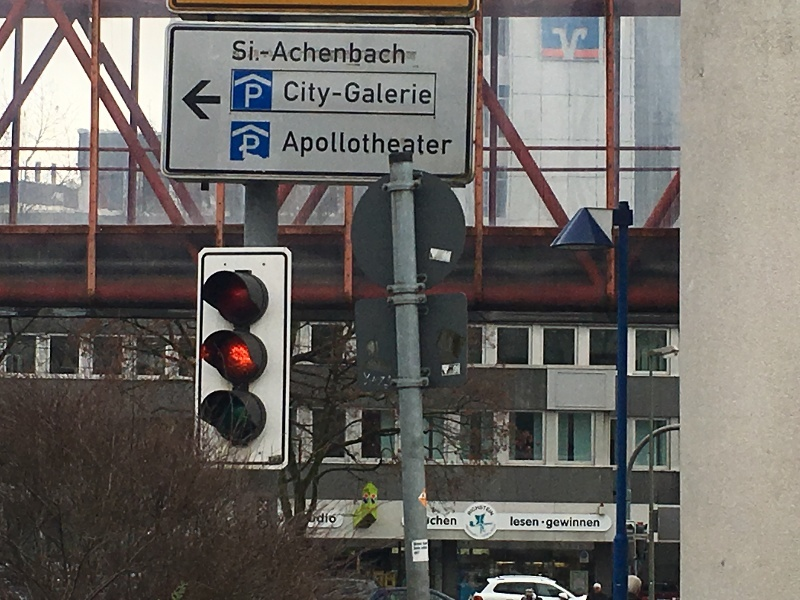text: (289, 77, 304, 110), (305, 77, 320, 110), (321, 77, 336, 110), (337, 77, 352, 110), (353, 77, 368, 110), (369, 77, 384, 110), (385, 77, 400, 110), (401, 77, 416, 110), (417, 77, 432, 110), (289, 128, 304, 159), (305, 128, 320, 159), (321, 128, 336, 159), (337, 128, 352, 159), (353, 128, 368, 159), (369, 128, 384, 159), (385, 128, 400, 159), (401, 128, 416, 159), (417, 128, 432, 159), (433, 128, 448, 159), (241, 35, 256, 65), (257, 35, 272, 65), (273, 35, 288, 65), (289, 35, 304, 65), (305, 35, 320, 65), (321, 35, 336, 65), (337, 35, 352, 65), (353, 35, 368, 65), (369, 35, 384, 65), (385, 35, 400, 65), (242, 133, 256, 160), (244, 82, 256, 110), (513, 515, 528, 530), (529, 515, 544, 530), (545, 515, 560, 530), (561, 515, 576, 530), (577, 515, 592, 530), (233, 35, 240, 65), (433, 515, 448, 529), (321, 513, 336, 526), (449, 128, 455, 159), (401, 35, 407, 65), (417, 541, 429, 556), (257, 82, 263, 110), (481, 505, 495, 517), (467, 505, 480, 517), (593, 515, 602, 530), (284, 77, 288, 110), (310, 513, 320, 526), (449, 515, 458, 529), (257, 133, 261, 160), (285, 128, 288, 159), (426, 515, 432, 529), (508, 515, 512, 530), (433, 77, 434, 110), (414, 541, 416, 556), (337, 513, 339, 526)
